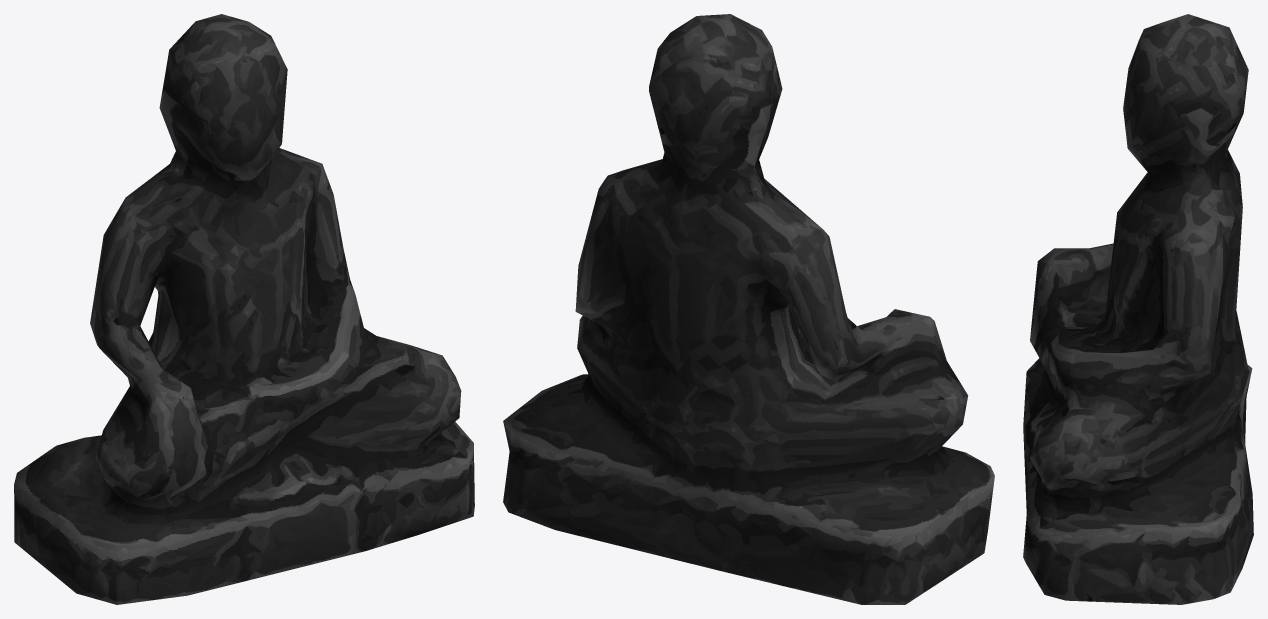
The model's file is VV-BuddhaStatue-3.fbx.
The picture shows the model from 3 angles, left to right: view 1: azimuth 30°, elevation 25°; view 2: azimuth 150°, elevation 25°; view 3: azimuth 270°, elevation 25°; orthographic projection. The views are drawn at different scales.
Visible parts, largest first — view 1: BuddhaStatue-3; view 2: BuddhaStatue-3; view 3: BuddhaStatue-3.
Part boxes in pixels (x1,y1,x2,y2): BuddhaStatue-3: (14, 14, 474, 604); BuddhaStatue-3: (503, 14, 994, 604); BuddhaStatue-3: (1023, 14, 1253, 604).
Size of the model in its own units: 1.69 by 1.89 by 0.8108.
